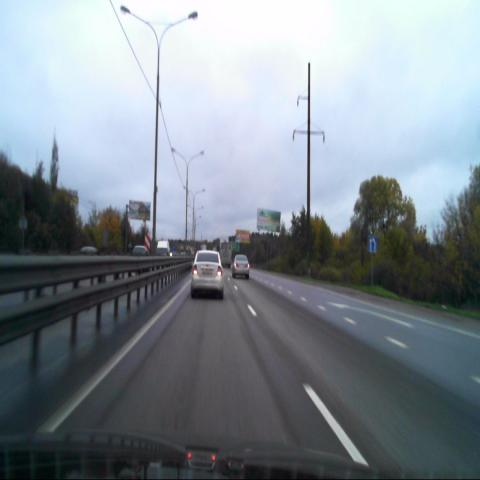5_15_5: (368, 236, 378, 253)
